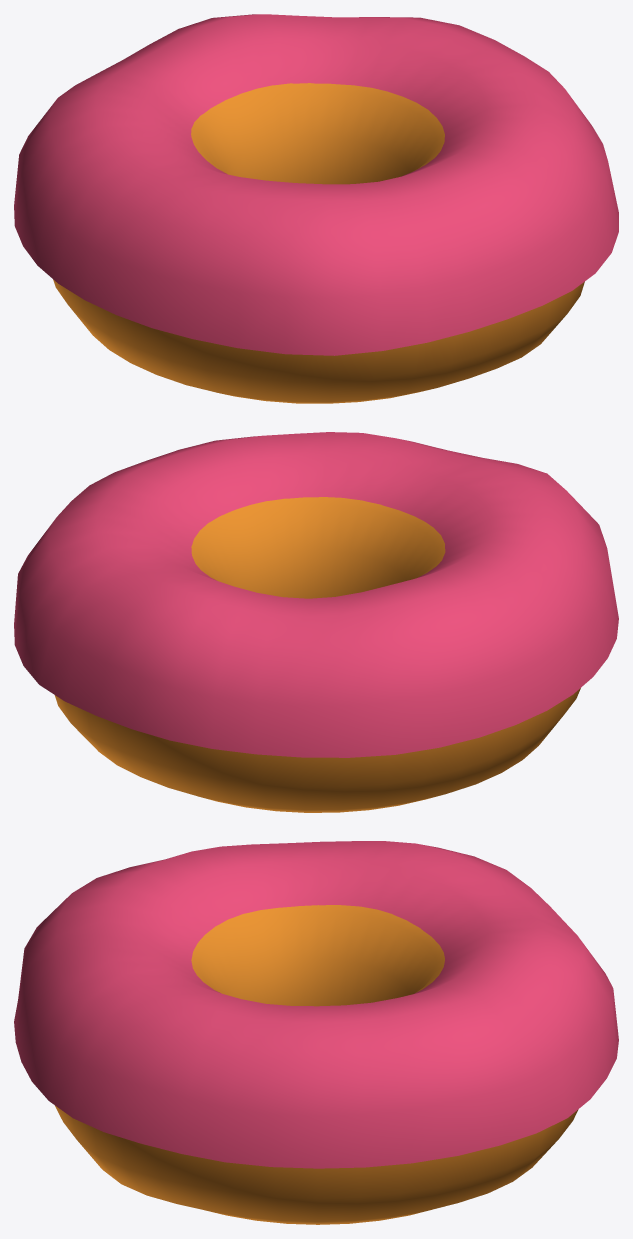
The model's file is donut.glb.
The picture shows the model from 3 angles, top to bottom: view 1: azimuth 30°, elevation 25°; view 2: azimuth 150°, elevation 25°; view 3: azimuth 270°, elevation 25°; orthographic projection.
Parts seen in each view (by area): view 1: Cobertura, Donut; view 2: Cobertura, Donut; view 3: Cobertura, Donut.
Boxes of the visible parts, <box> form: Cobertura: <box>14,14,618,355</box>; Donut: <box>53,83,584,403</box>; Cobertura: <box>14,432,618,757</box>; Donut: <box>54,497,580,812</box>; Cobertura: <box>14,841,618,1168</box>; Donut: <box>55,905,578,1224</box>.
Bounding box in the file's own units: 0.1062 × 0.0422 × 0.1076.
